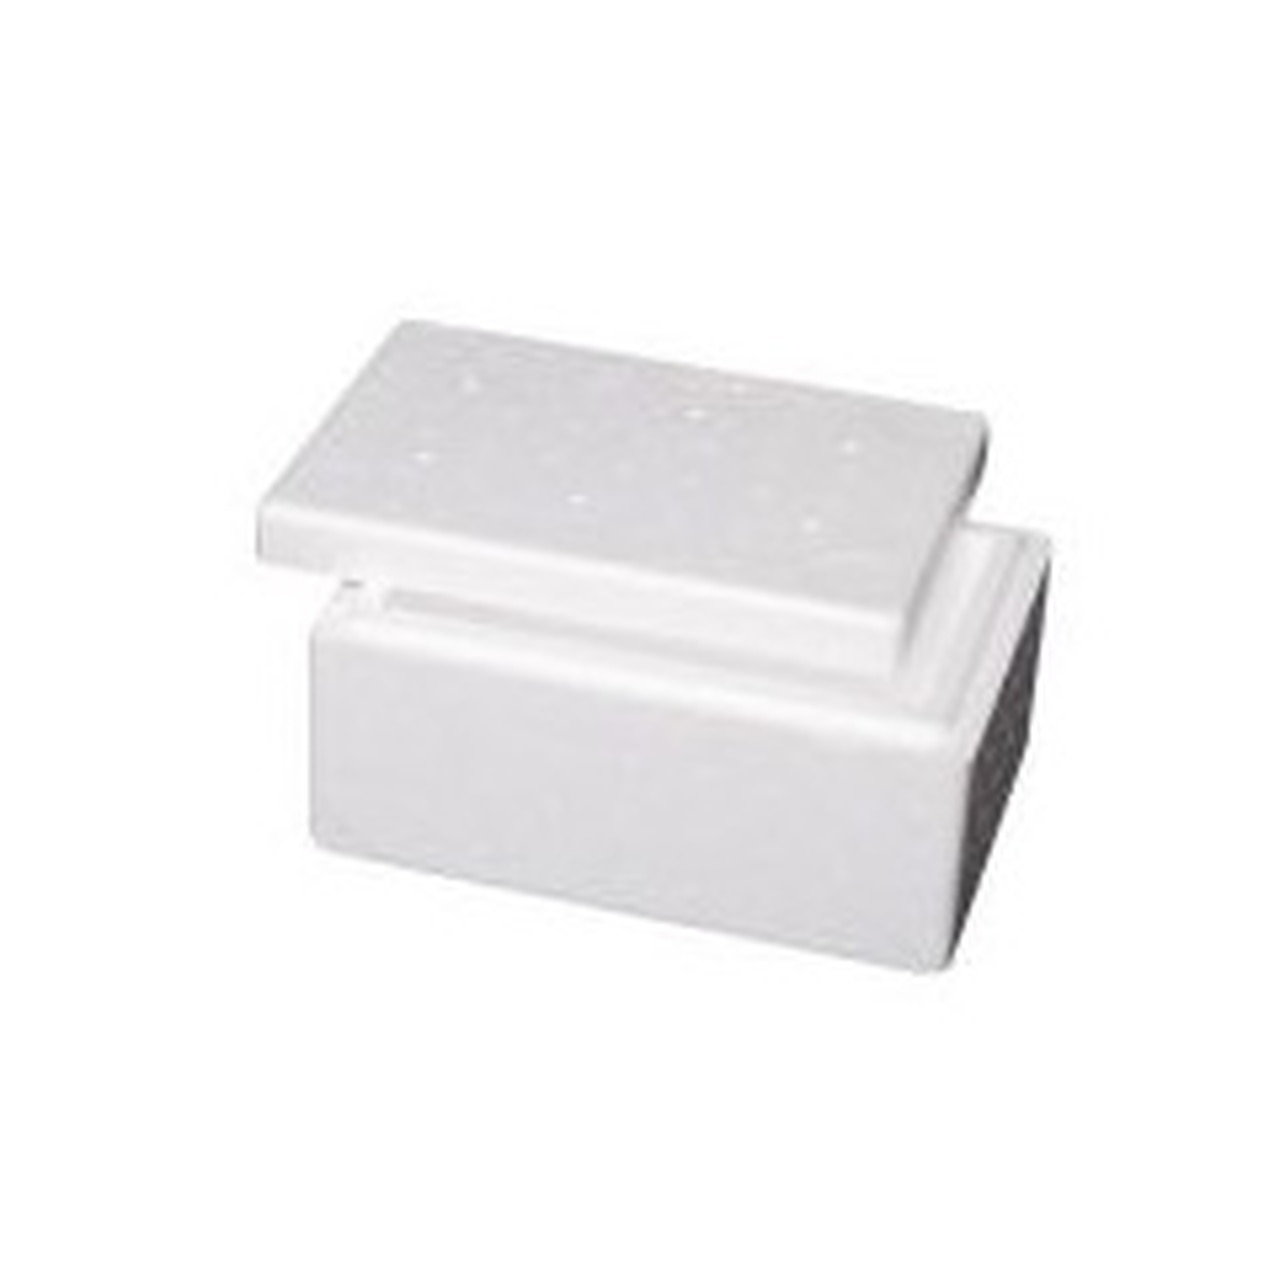Foam Box: (237, 302, 1071, 989)
